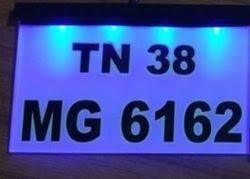T: (67, 40, 101, 77)
